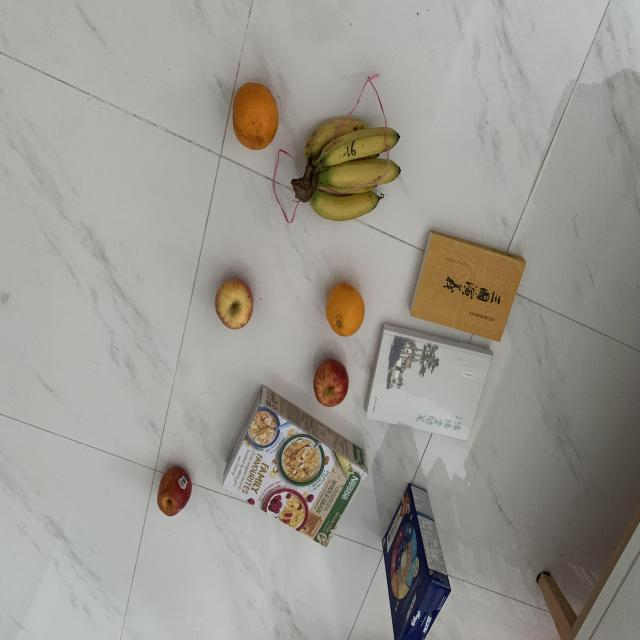Apple: (214, 273, 257, 333), (311, 355, 352, 415), (155, 465, 191, 522)
Banana: (291, 114, 403, 225)
Book: (363, 318, 498, 444), (406, 228, 528, 344)
Cerealbox: (217, 383, 369, 553), (379, 475, 457, 640)
Orange: (227, 81, 282, 155), (321, 280, 367, 338)
